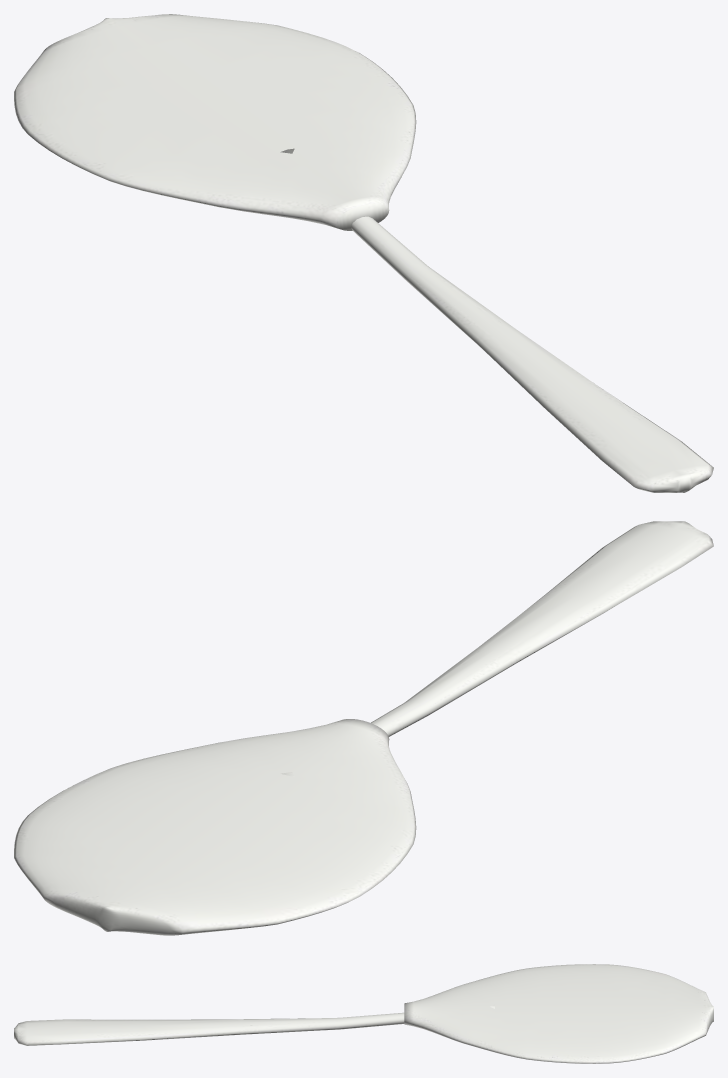
3 renders of one model, top to bottom at view 1: azimuth 30°, elevation 25°; view 2: azimuth 150°, elevation 25°; view 3: azimuth 270°, elevation 25°, orthographic. The views are drawn at different scales.
Parts seen in each view (by area): view 1: body; view 2: body; view 3: body.
Part boxes in pixels (<box>): body: <box>14,14,713,492</box>; body: <box>14,521,713,935</box>; body: <box>14,964,713,1063</box>.
Bounding box in the file's own units: 0.0681 × 0.0102 × 0.2039.
Materials: 1 (1 with a texture image).
